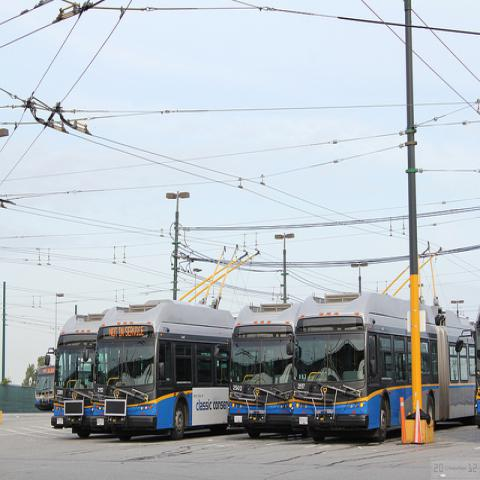bus: (292, 293, 476, 442), (88, 298, 230, 443), (226, 303, 298, 428), (52, 316, 99, 425), (35, 366, 53, 412)
